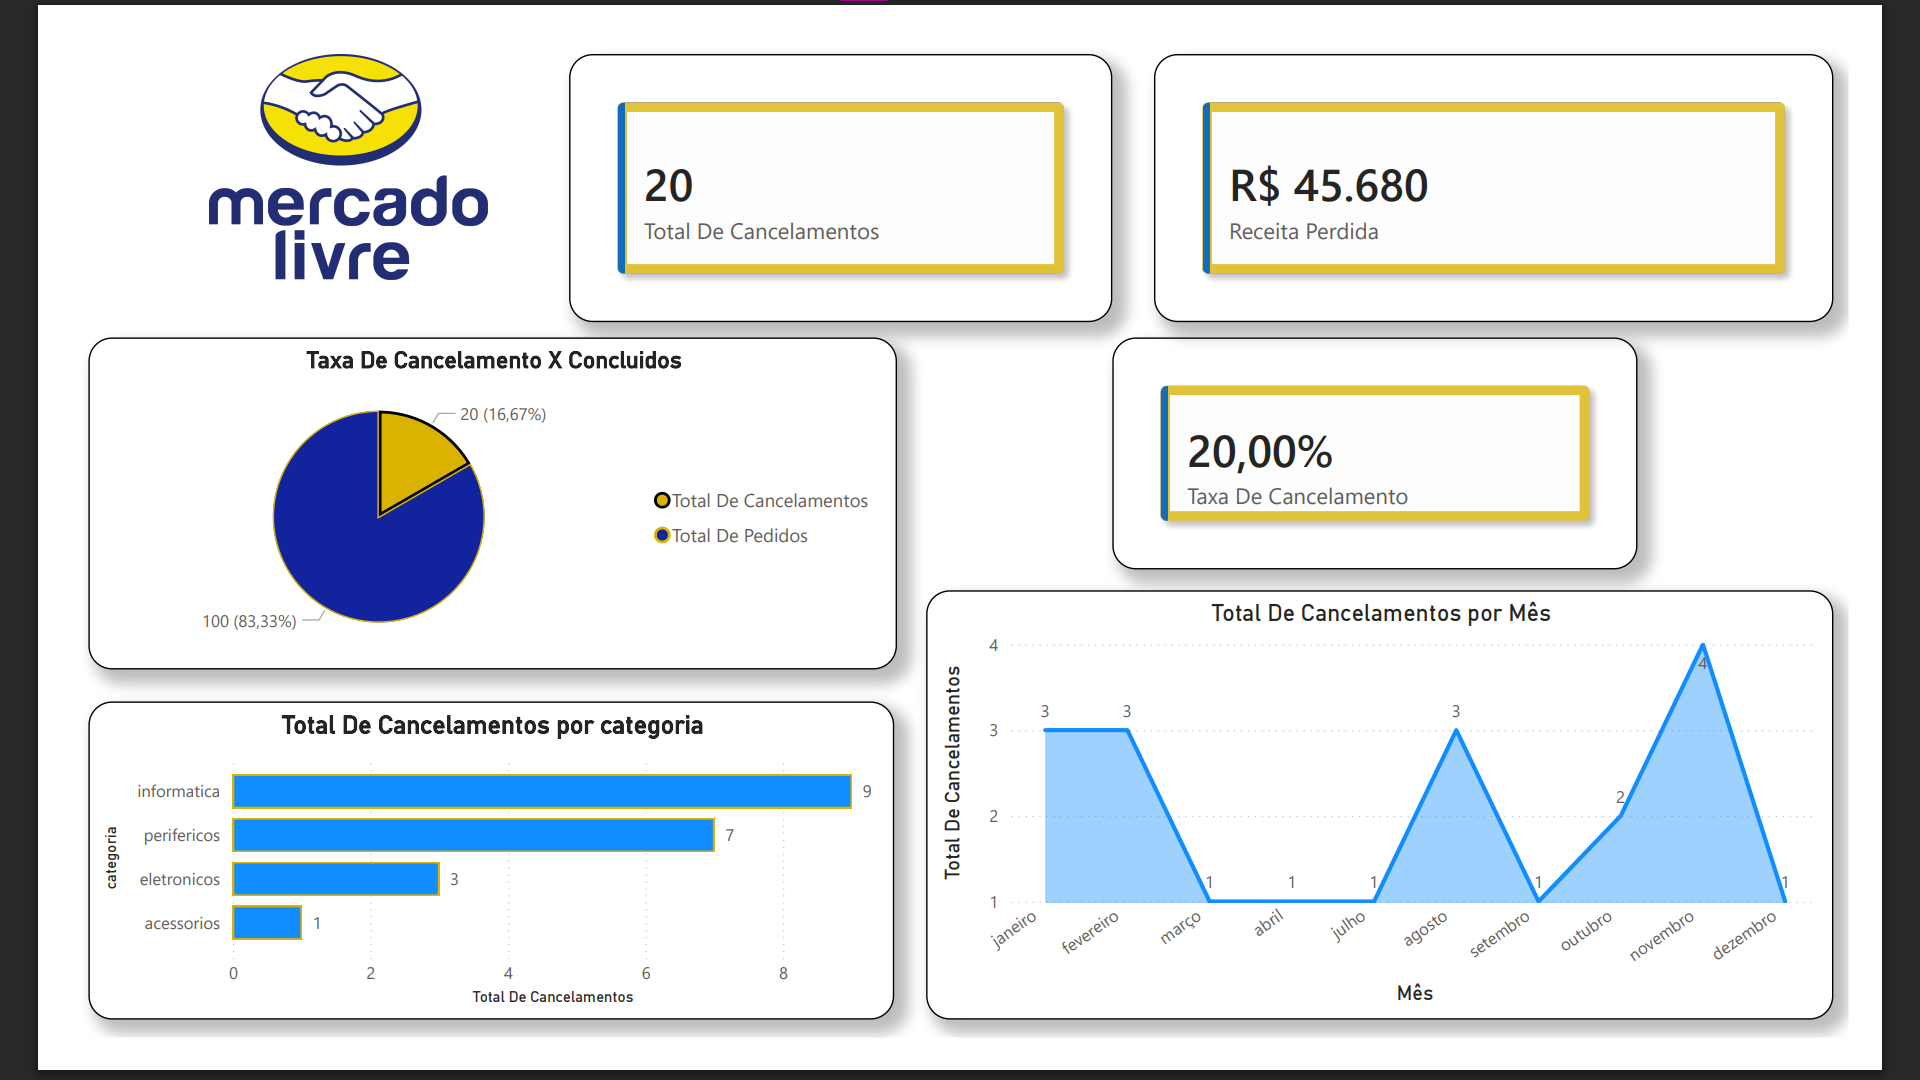

This screenshot's page, from the dashboard's own definition file:
{"tool":"powerbi","page":{"name":"Página 1","canvas":[1280,720],"ordinal":0},"visuals":[{"type":"barChart","fields":{"Category":["produtos.categoria"],"Y":["pedidos.Cancelamentos"]},"box":[12.6,477.6,580,229.8],"z":0},{"type":"cardVisual","fields":{"Data":["pedidos.Cancelamentos"]},"box":[359.1,11.7,390.5,193],"z":1},{"type":"pieChart","title":"Taxa De Cancelamento X Concluidos","fields":{"Y":["pedidos.Total De Cancelamentos","pedidos.Total De Pedidos"]},"box":[12.6,216.4,582.6,238.8],"z":2},{"type":"cardVisual","fields":{"Data":["pedidos.Taxa De Cancelamento"]},"box":[749.6,216.4,378.9,167],"z":3},{"type":"cardVisual","title":"Receita Perdida","fields":{"Data":["pedidos.Impacto Financeiro"]},"box":[780.1,11.7,488.4,193],"z":4},{"type":"lineChart","fields":{"Category":["pedidos.data_pedido.Variation.Hierarquia de datas.Ano","pedidos.data_pedido.Variation.Hierarquia de datas.Trimestre","pedidos.data_pedido.Variation.Hierarquia de datas.Mês","pedidos.data_pedido.Variation.Hierarquia de datas.Dia"],"Y":["pedidos.Cancelamentos"]},"box":[615.9,397.7,652.7,309.7],"z":5},{"type":"image","box":[0,11.7,400.4,162.5],"z":6}]}

Visuals, with their boxes in screenshot pixels (x1, y1, x2, y2), scaled from the page's 1280x720 canvas onto the 1920x1080 screenshot:
barChart - produtos.categoria x pedidos.Cancelamentos: [left=19, top=716, right=889, bottom=1061]
cardVisual - pedidos.Cancelamentos: [left=539, top=18, right=1124, bottom=307]
"Taxa De Cancelamento X Concluidos" pieChart: [left=19, top=325, right=893, bottom=683]
cardVisual - pedidos.Taxa De Cancelamento: [left=1124, top=325, right=1693, bottom=575]
"Receita Perdida" cardVisual: [left=1170, top=18, right=1903, bottom=307]
lineChart - pedidos.data_pedido.Variation.Hierarquia de datas.Ano x pedidos.data_pedido.Variation.Hierarquia de datas.Trimestre: [left=924, top=597, right=1903, bottom=1061]
image: [left=0, top=18, right=601, bottom=261]
